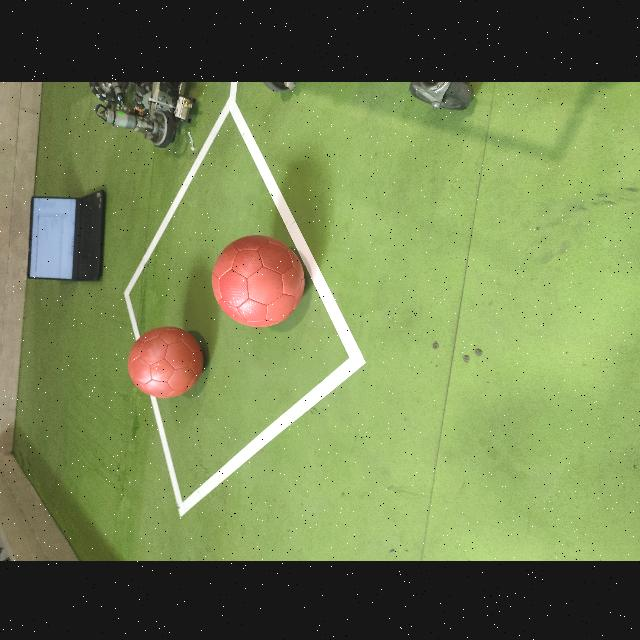R: (212, 234, 304, 326), (128, 326, 204, 396)
